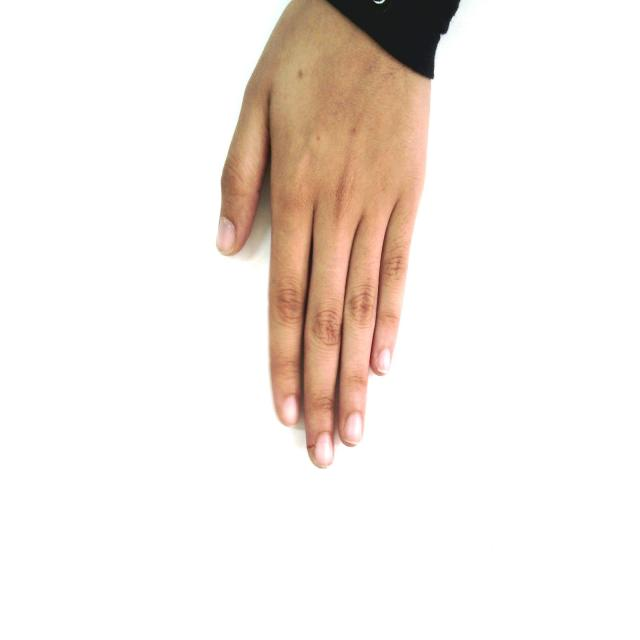Nail: (216, 215, 236, 254), (315, 432, 334, 468), (344, 412, 362, 444), (281, 395, 299, 425), (376, 348, 391, 373)
